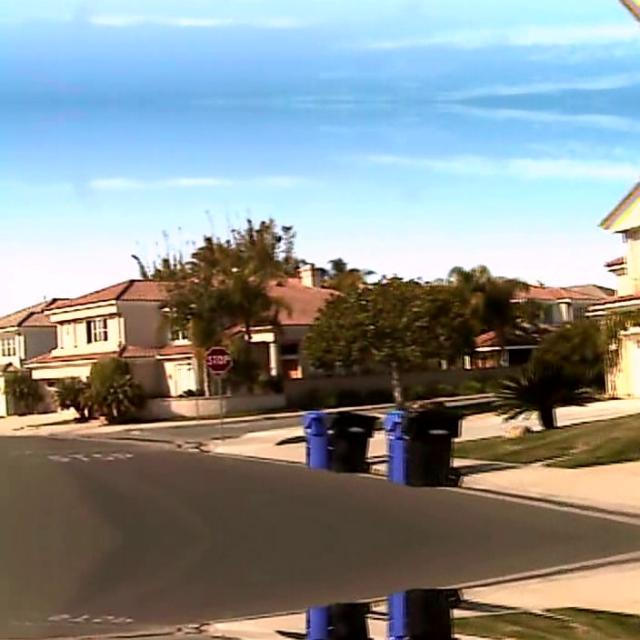stop: (204, 346, 232, 372)
